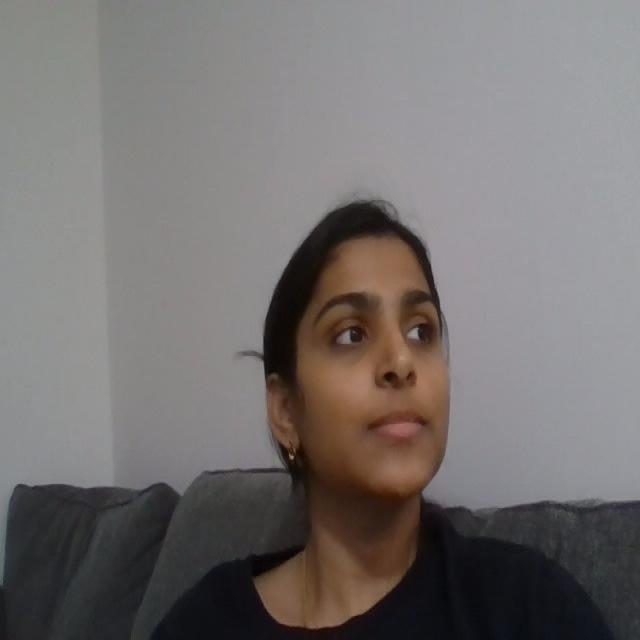No Hat: (260, 147, 453, 280)
